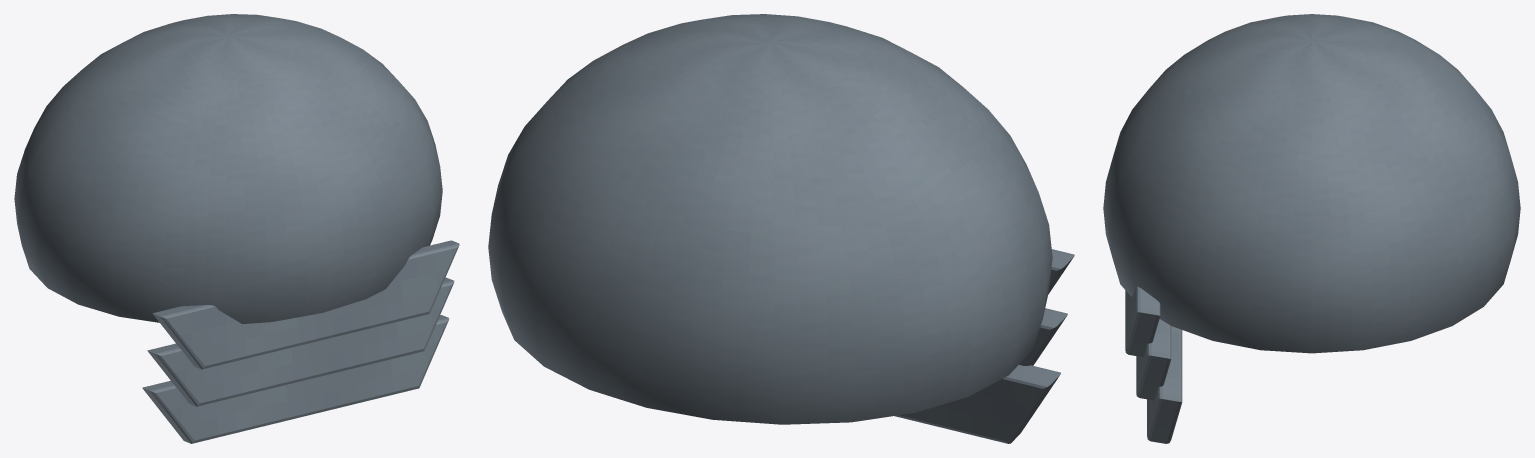
3 renders of one model, left to right at view 1: azimuth 30°, elevation 25°; view 2: azimuth 150°, elevation 25°; view 3: azimuth 270°, elevation 25°, orthographic. The views are drawn at different scales.
Visible parts, largest first — view 1: steel.0, steel.1, steel.3, steel.2; view 2: steel.0, steel.3, steel.2; view 3: steel.0, steel.3, steel.1, steel.2.
Boxes of the visible parts, <box> form: steel.0: <box>14,14,442,323</box>; steel.1: <box>152,240,459,369</box>; steel.3: <box>142,315,449,443</box>; steel.2: <box>147,277,454,406</box>; steel.0: <box>488,14,1052,424</box>; steel.3: <box>894,365,1060,443</box>; steel.2: <box>1019,308,1067,365</box>; steel.0: <box>1103,14,1520,353</box>; steel.3: <box>1147,326,1182,443</box>; steel.1: <box>1125,286,1160,357</box>; steel.2: <box>1136,319,1171,400</box>.
Bounding box in the file's own units: 0.34 × 0.2793 × 0.306.
Materials: 1 (1 with a texture image).
